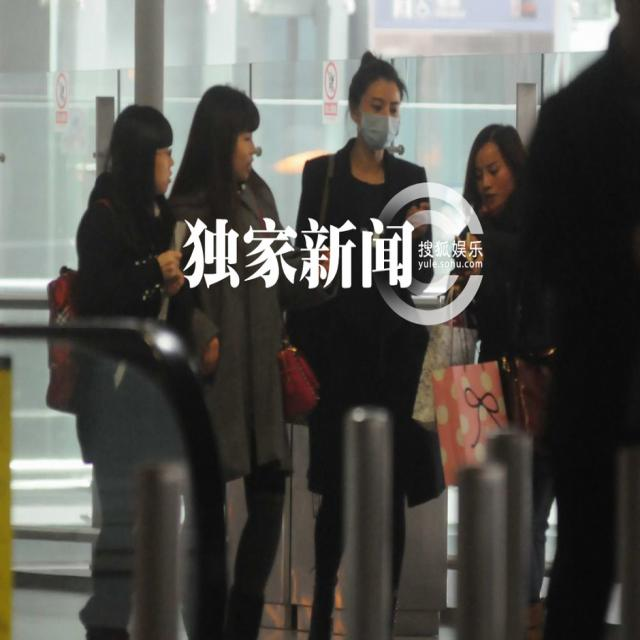mask: (359, 82, 401, 149)
nomask: (472, 147, 514, 212), (227, 122, 258, 180), (143, 137, 173, 196)
